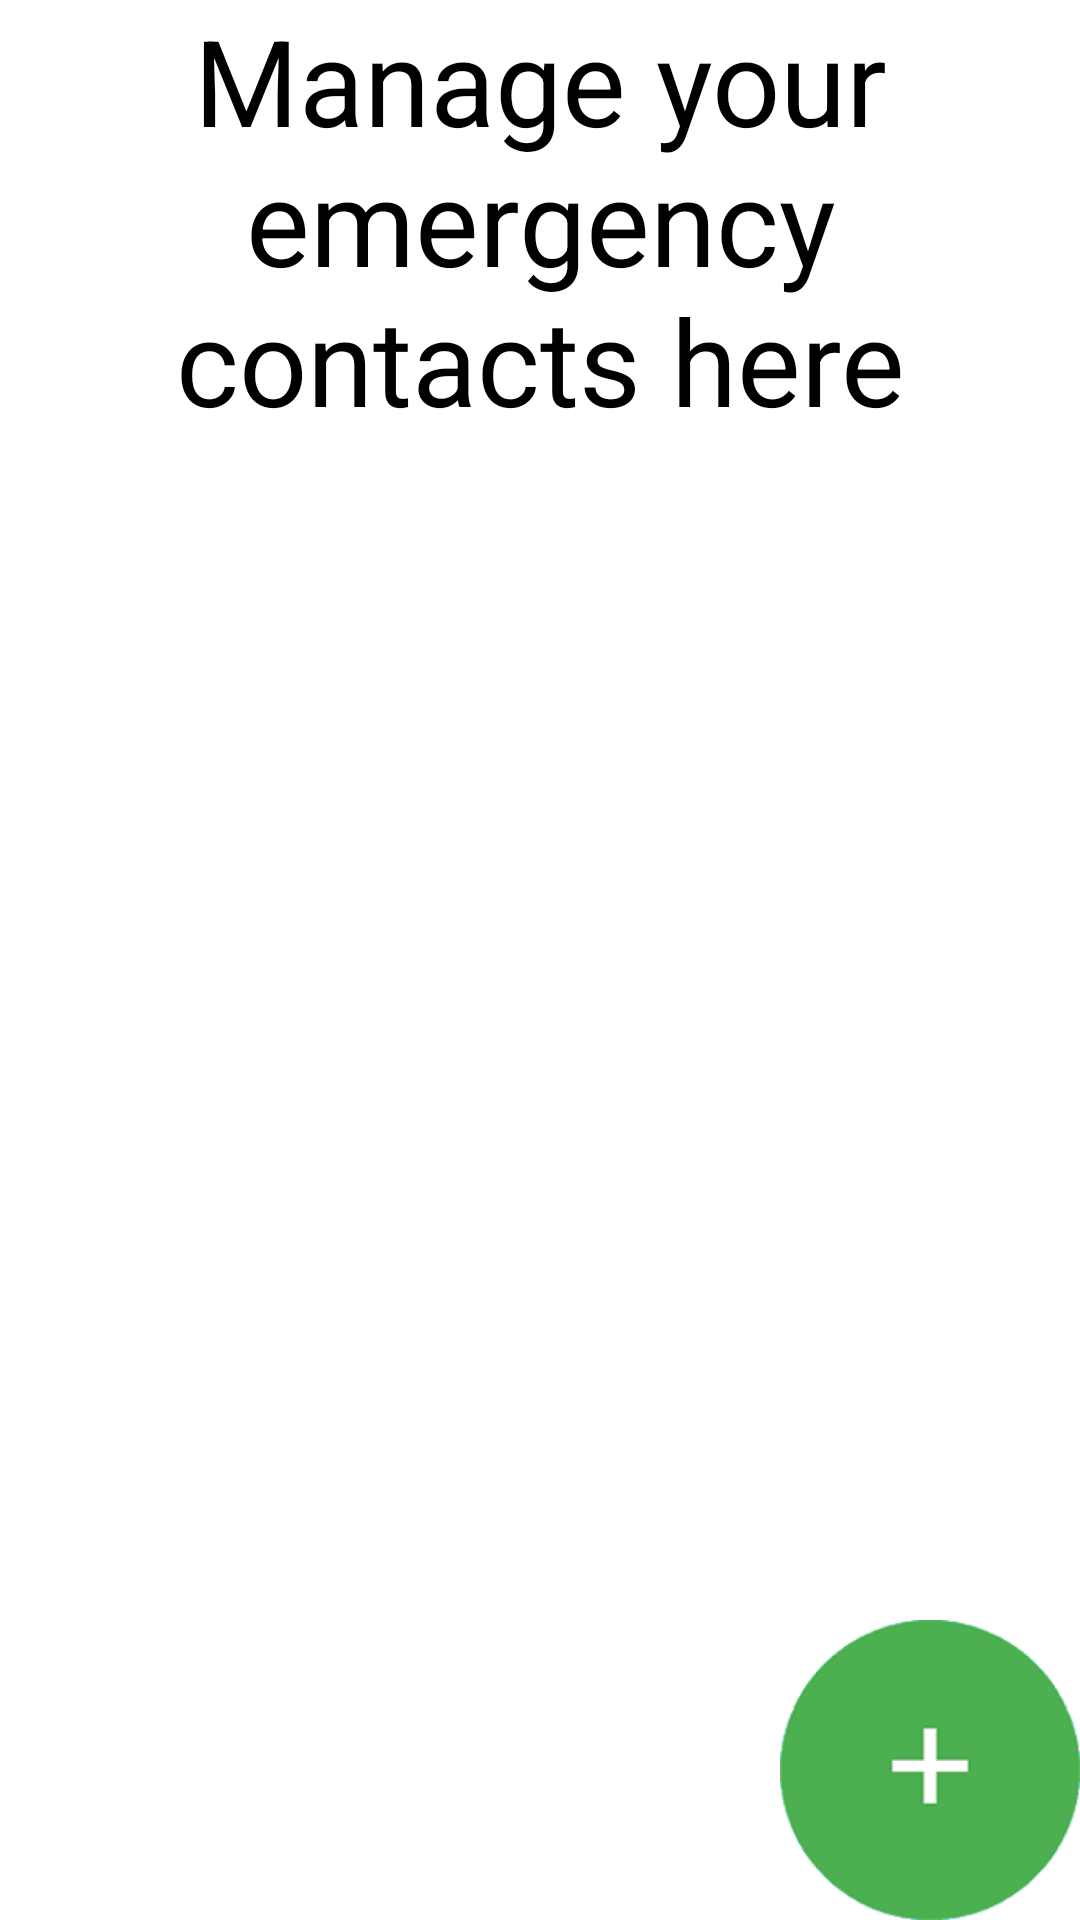

Icon bounding boxes for this 1080×1920 phone screenshot, format [x1=x1, y1=y1, x2=x2, y2=y2]:
plus sign: [x1=780, y1=1620, x2=1080, y2=1920]
